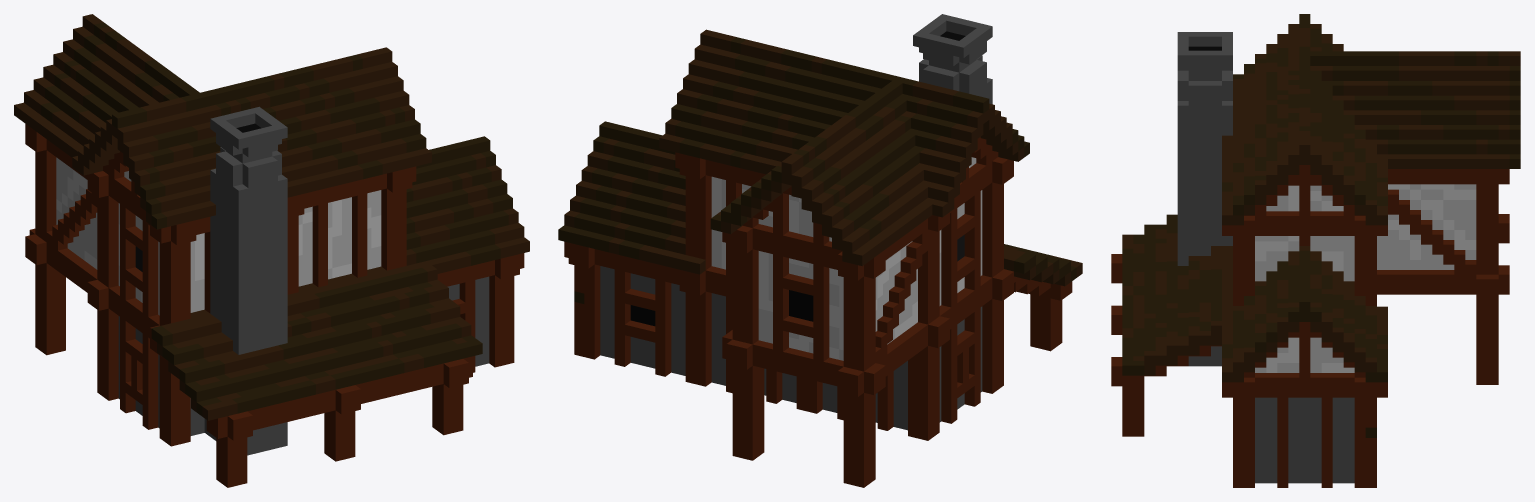
File: big_medieval_town_house_4.glb
3 views of the same model, side by side, from view 1: azimuth 30°, elevation 25°; view 2: azimuth 150°, elevation 25°; view 3: azimuth 270°, elevation 25° (orthographic). The views are drawn at different scales.
Visible parts, largest first — view 1: Object_2; view 2: Object_2; view 3: Object_2.
Boxes of the visible parts, box(x1,y1,x2,y2) form: Object_2: box(14, 14, 529, 487); Object_2: box(558, 14, 1082, 487); Object_2: box(1111, 14, 1520, 487).
Size of the model in its own units: 38 by 31 by 37.
Materials: 1 (1 with a texture image).
